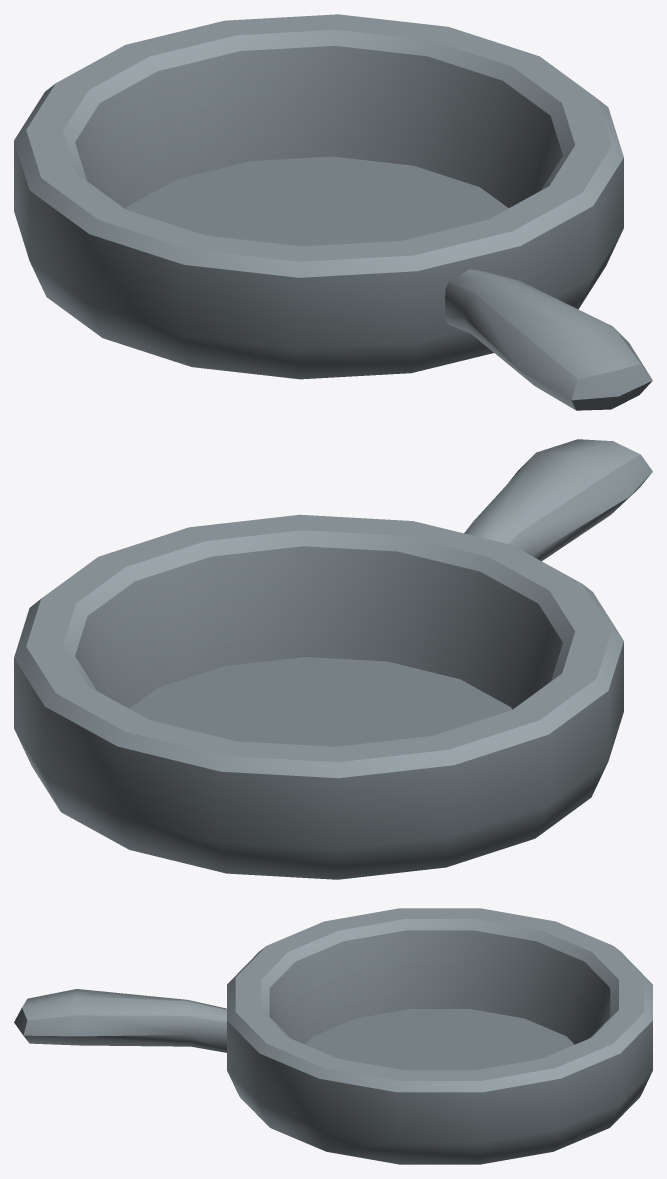
The model's file is kay-pan_a.glb.
3 views of the same model, one above another, from view 1: azimuth 30°, elevation 25°; view 2: azimuth 150°, elevation 25°; view 3: azimuth 270°, elevation 25° (orthographic). The views are drawn at different scales.
Parts seen in each view (by area): view 1: pan_A; view 2: pan_A; view 3: pan_A.
Boxes of the visible parts, box(x1,y1,x2,y2) form: pan_A: box(14, 14, 652, 410); pan_A: box(14, 439, 652, 879); pan_A: box(14, 908, 652, 1164).
Bounding box in the file's own units: 0.1467 × 0.0367 × 0.22.
Materials: 1 (1 with a texture image).
